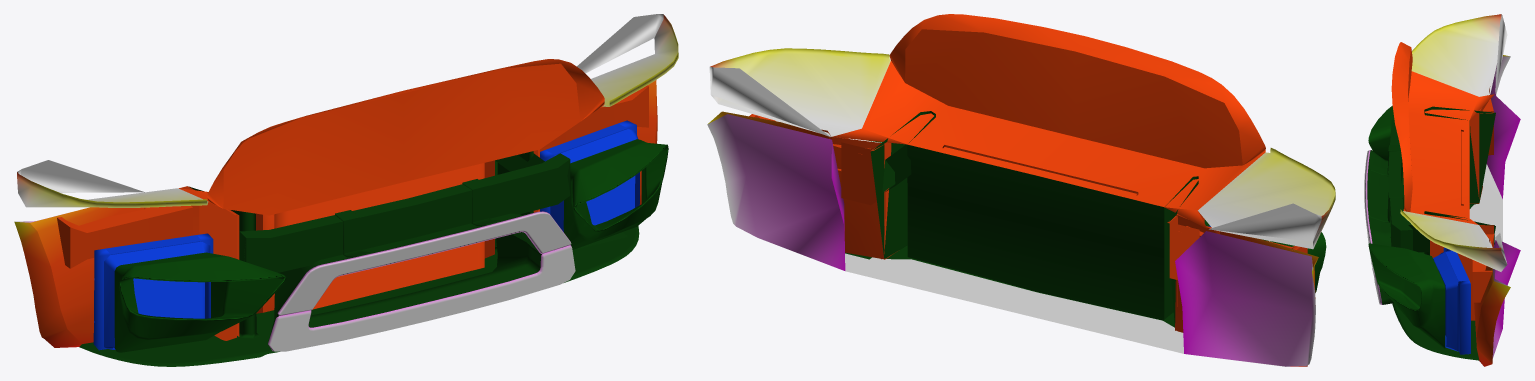
Rendered from Car_Mini_CountrymanJCW_2017_BumperChassisF_SetE_AltA.fbx.
3 views of the same model, side by side, from view 1: azimuth 30°, elevation 25°; view 2: azimuth 150°, elevation 25°; view 3: azimuth 270°, elevation 25° (orthographic). The views are drawn at different scales.
Parts seen in each view (by area): view 1: BumperChassisF 6; view 2: BumperChassisF 6; view 3: BumperChassisF 6.
Part boxes in pixels (left/top/right/bottom): BumperChassisF 6: left=14, top=14, right=678, bottom=366; BumperChassisF 6: left=707, top=14, right=1335, bottom=366; BumperChassisF 6: left=1364, top=14, right=1520, bottom=366.
Size of the model in its own units: 1.74 by 0.6085 by 0.4917.
